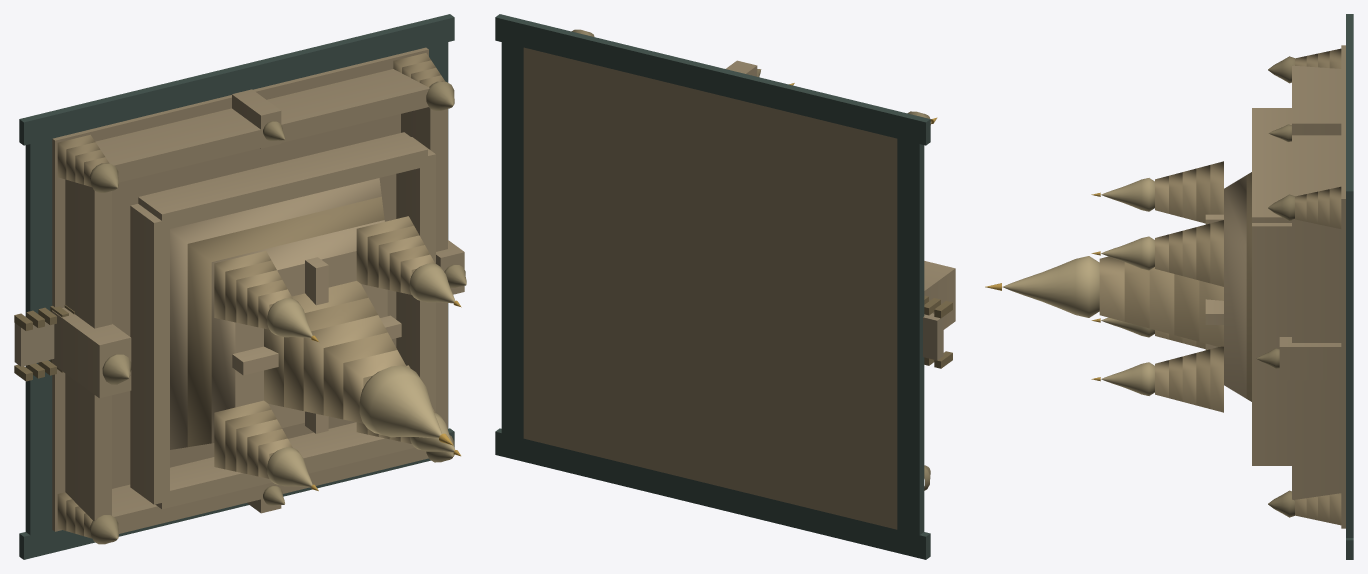
Rendered from angkor-wat.glb.
The picture shows the model from 3 angles, left to right: view 1: azimuth 30°, elevation 25°; view 2: azimuth 150°, elevation 25°; view 3: azimuth 270°, elevation 25°; orthographic projection. The views are drawn at different scales.
Parts seen in each view (by area): view 1: part-sand, part-water, part-sandShade, part-tower, part-lotus, part-causeway, part-rail; view 2: part-sand, part-water, part-causeway, part-rail; view 3: part-sand, part-tower, part-lotus, part-sandShade, part-water.
Part boxes in pixels (x1=…): part-sand: x1=52, y1=47, x2=464, y2=533; part-water: x1=19, y1=14, x2=454, y2=559; part-sandShade: x1=187, y1=196, x2=429, y2=476; part-tower: x1=57, y1=53, x2=445, y2=538; part-lotus: x1=89, y1=81, x2=466, y2=544; part-causeway: x1=14, y1=322, x2=54, y2=366; part-rail: x1=14, y1=305, x2=74, y2=381; part-sand: x1=523, y1=47, x2=955, y2=529; part-water: x1=495, y1=14, x2=930, y2=559; part-causeway: x1=923, y1=313, x2=943, y2=360; part-rail: x1=924, y1=295, x2=952, y2=368; part-sand: x1=1205, y1=45, x2=1345, y2=528; part-tower: x1=1099, y1=48, x2=1341, y2=525; part-lotus: x1=1002, y1=56, x2=1294, y2=517; part-sandShade: x1=1124, y1=165, x2=1251, y2=408; part-water: x1=1346, y1=14, x2=1353, y2=559.
Bounding box in the file's own units: 1.39 × 1.32 × 1.2.
